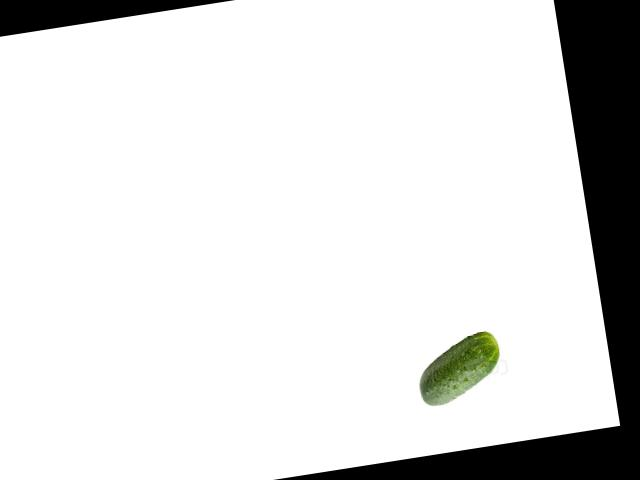cucumber: (412, 330, 506, 408)
